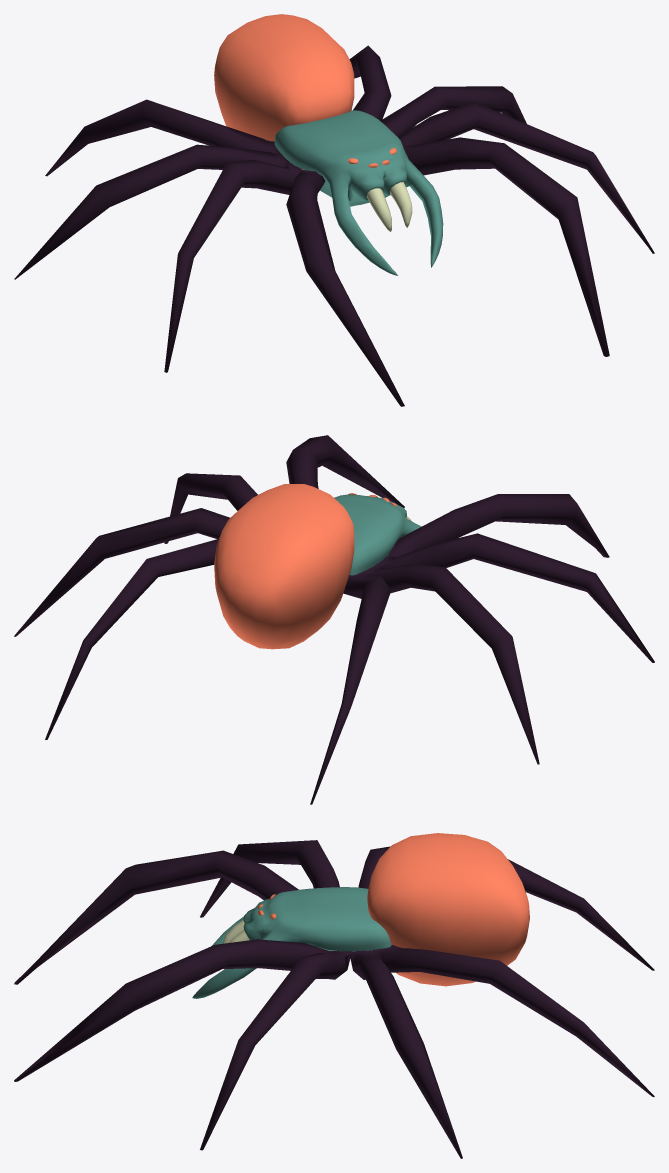
File: pavuk.fbx
The picture shows the model from 3 angles, top to bottom: view 1: azimuth 30°, elevation 25°; view 2: azimuth 150°, elevation 25°; view 3: azimuth 270°, elevation 25°; orthographic projection. The views are drawn at different scales.
Parts seen in each view (by area): view 1: Cube; view 2: Cube; view 3: Cube.
Part boxes in pixels (x1,y1,x2,y2): Cube: (14,14,654,406); Cube: (14,435,654,804); Cube: (14,833,654,1158).
Size of the model in its own units: 9.2 by 3.34 by 9.93.
